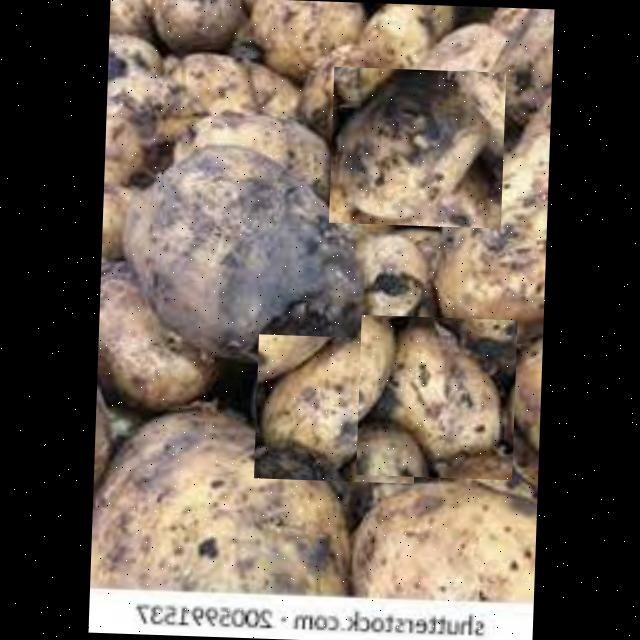Damaged potato: (124, 138, 374, 372), (328, 65, 504, 227), (355, 314, 516, 478), (252, 333, 418, 482), (319, 227, 442, 377)
